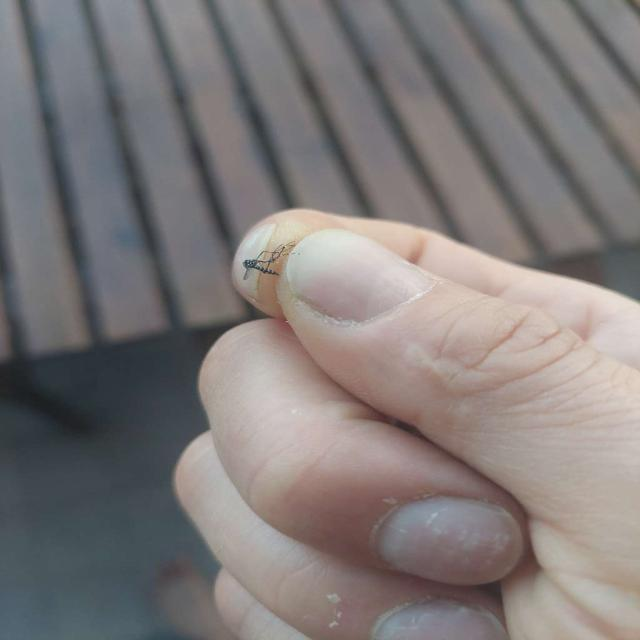albopictus: (237, 236, 302, 289)
